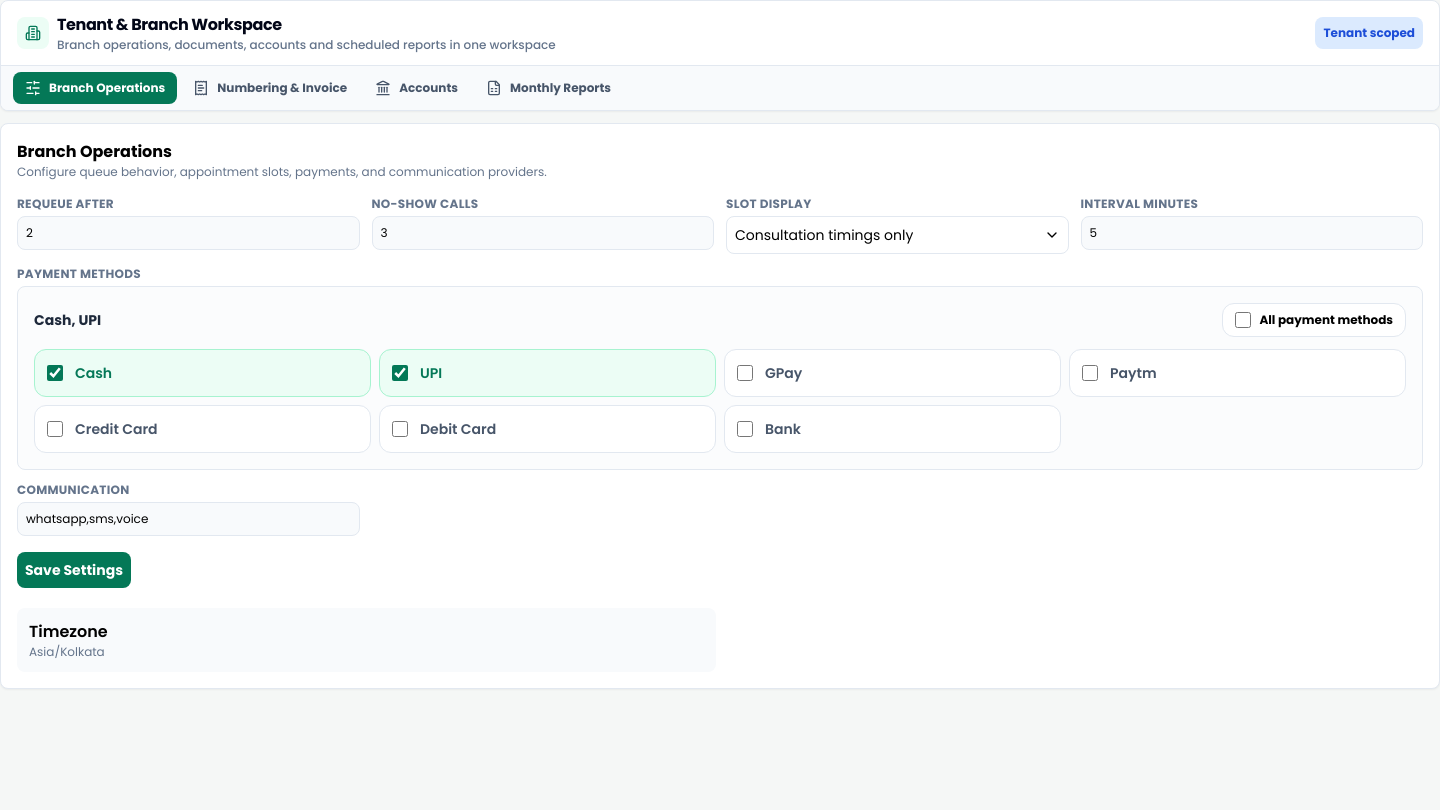
Tenant and branch settings workspace › preserves every settings section in four workspace tabs
Check: the navigation bar named "Tenant and branch workspace sections" is shown, box [1,65,1439,110]
Check: the tab "Branch Operations" is shown, box [13,72,177,104]
Click the tab "Numbering & Invoice" at (270, 88), box [181,72,359,104]
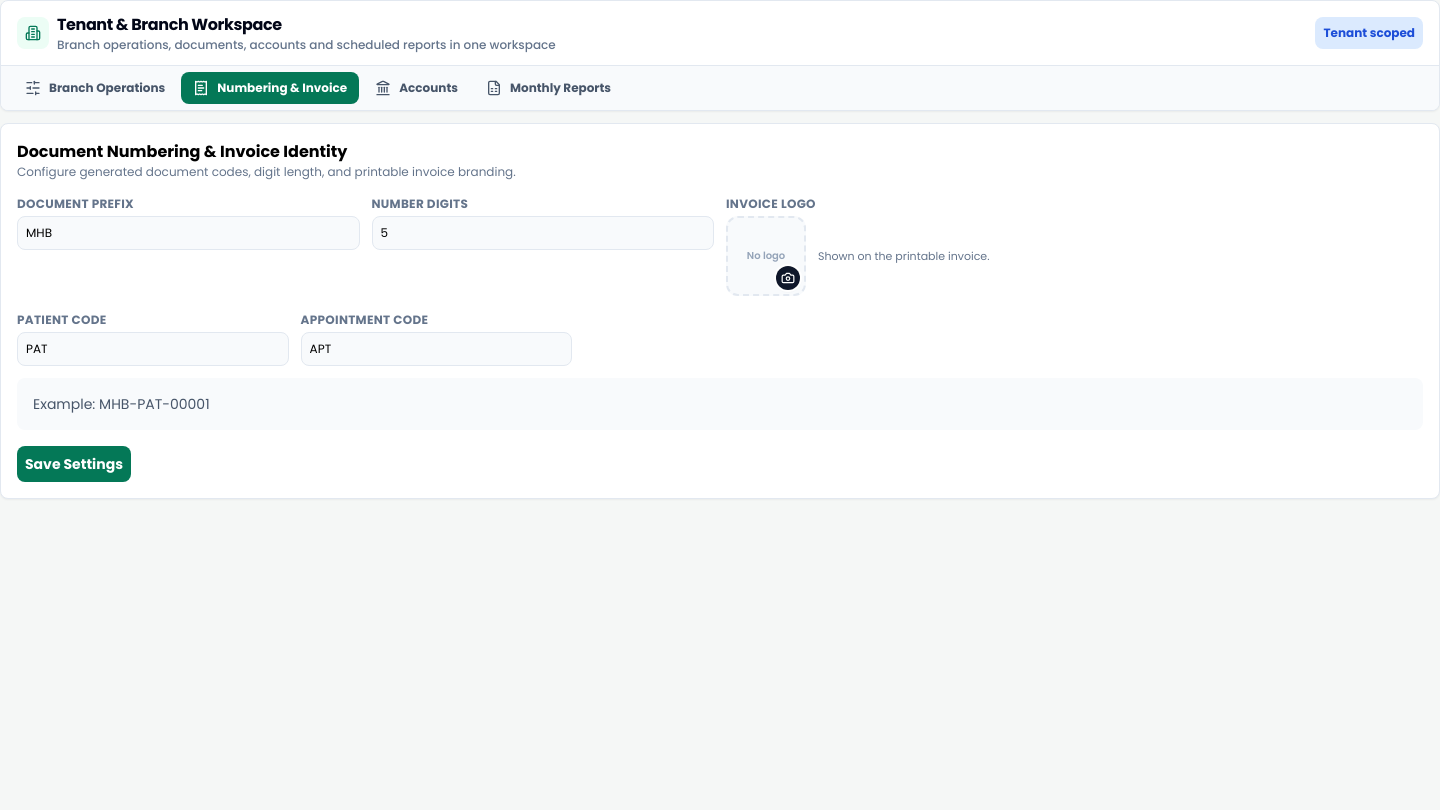
Check: the heading "Document Numbering & Invoice Identity" is shown, box [17,140,347,163]
Check: the field showing "MHB" below "Document Prefix" is shown, box [17,216,360,250]
Click the tab "Accounts" at (417, 88), box [363,72,470,104]
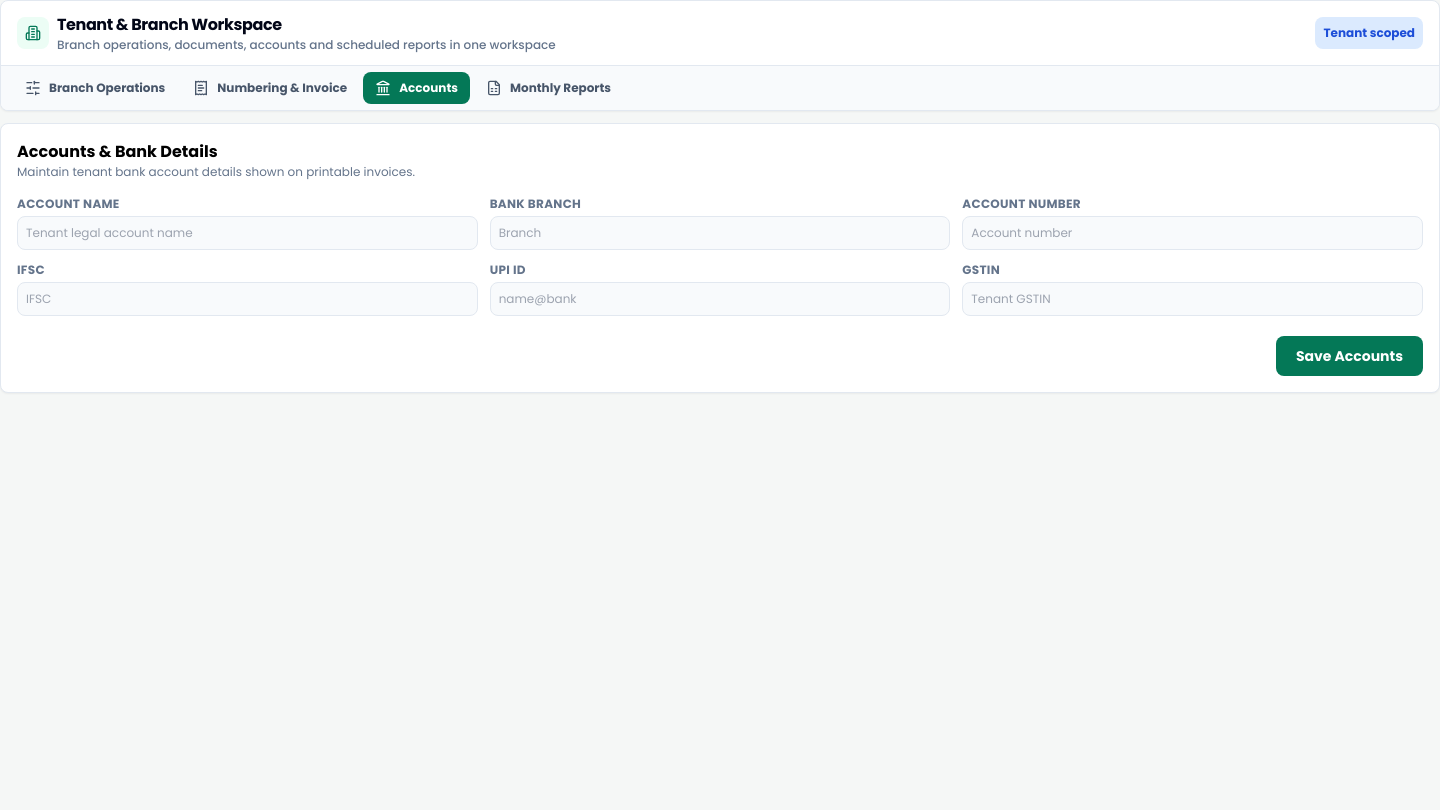
Check: the heading "Accounts & Bank Details" is shown, box [17,140,218,163]
Check: the field with placeholder "Tenant legal account name" is shown, box [17,216,478,250]
Click the tab "Monthly Reports" at (549, 88), box [474,72,623,104]
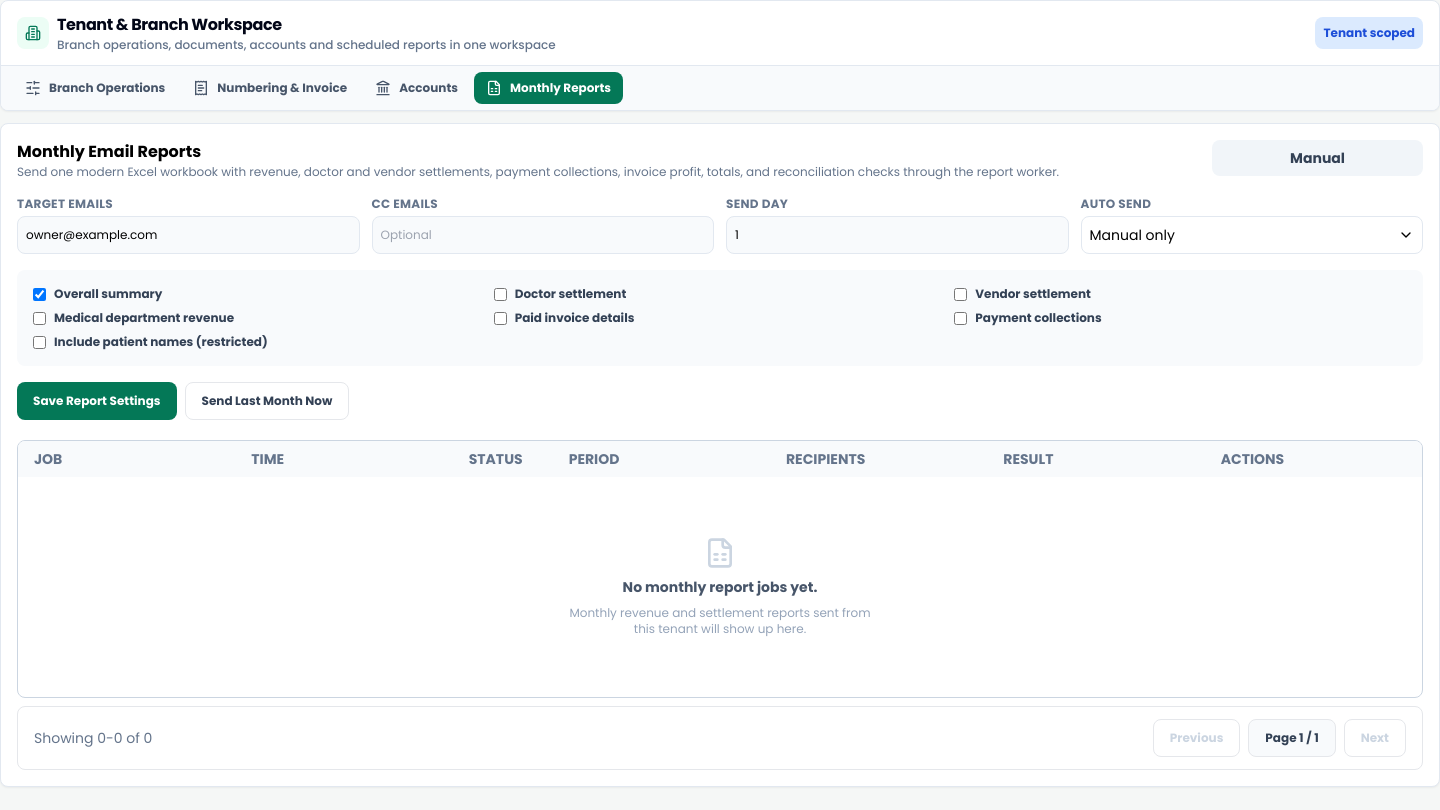
Check: the heading "Monthly Email Reports" is shown, box [17,140,201,163]
Check: the button "Send Last Month Now" is shown, box [184,382,349,420]
